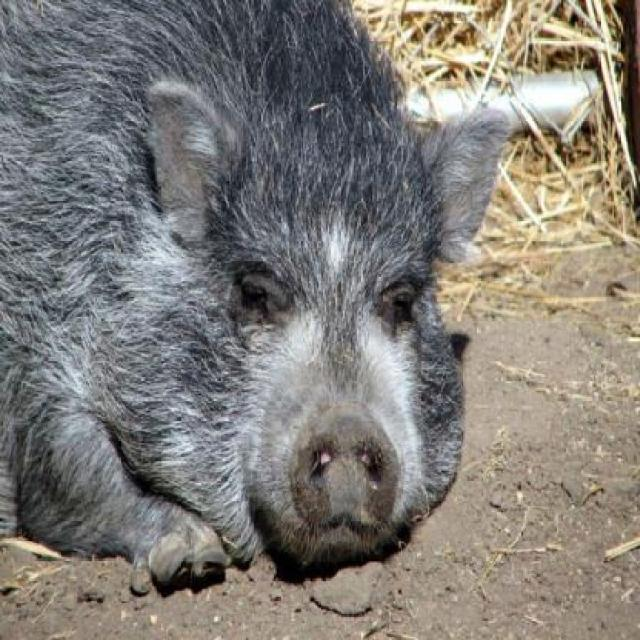Boar: (1, 0, 514, 597)
